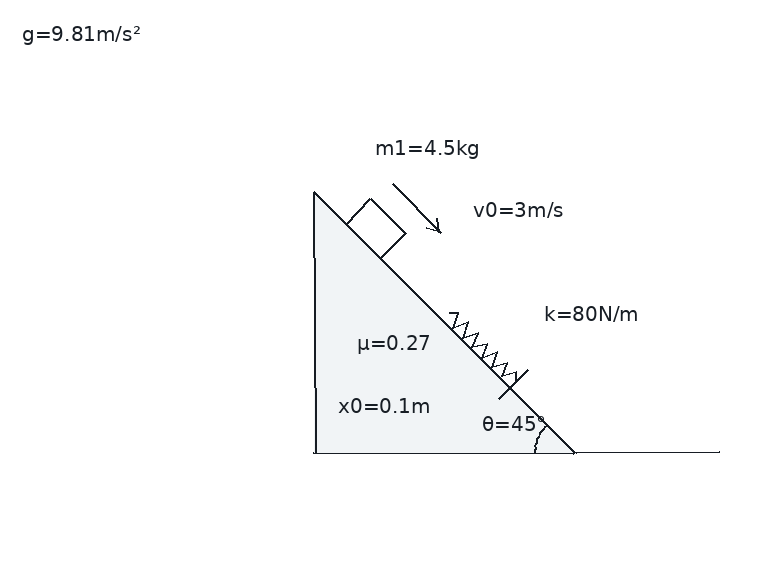block: (344, 196, 407, 260)
ramp: (312, 190, 577, 455)
spring: (446, 311, 518, 383)
